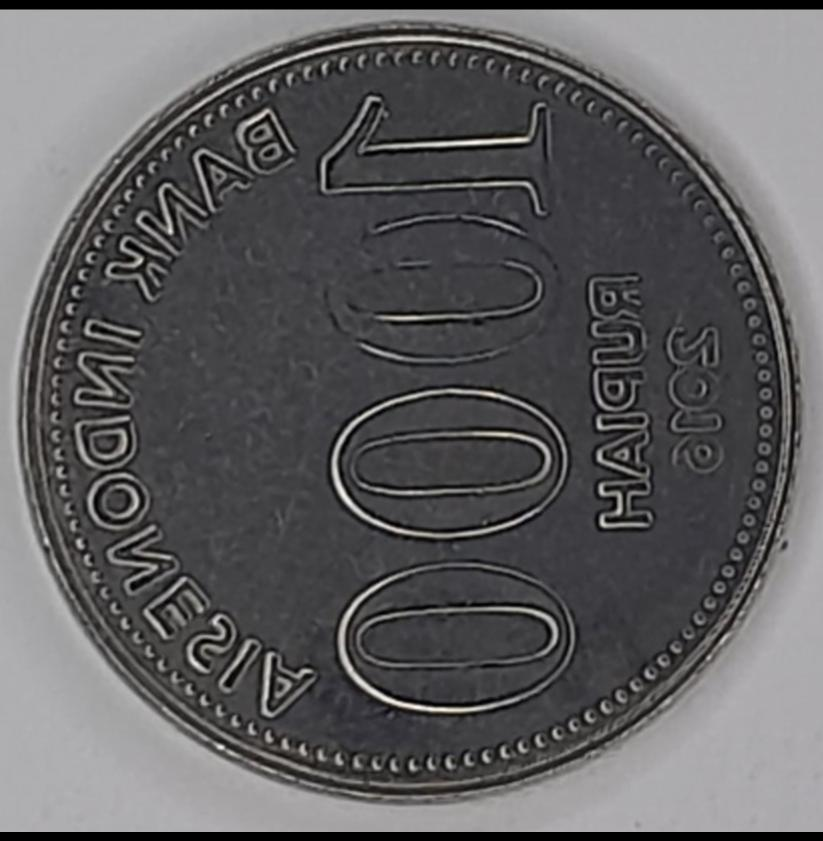coin_1000_e2016: (14, 17, 812, 841)
